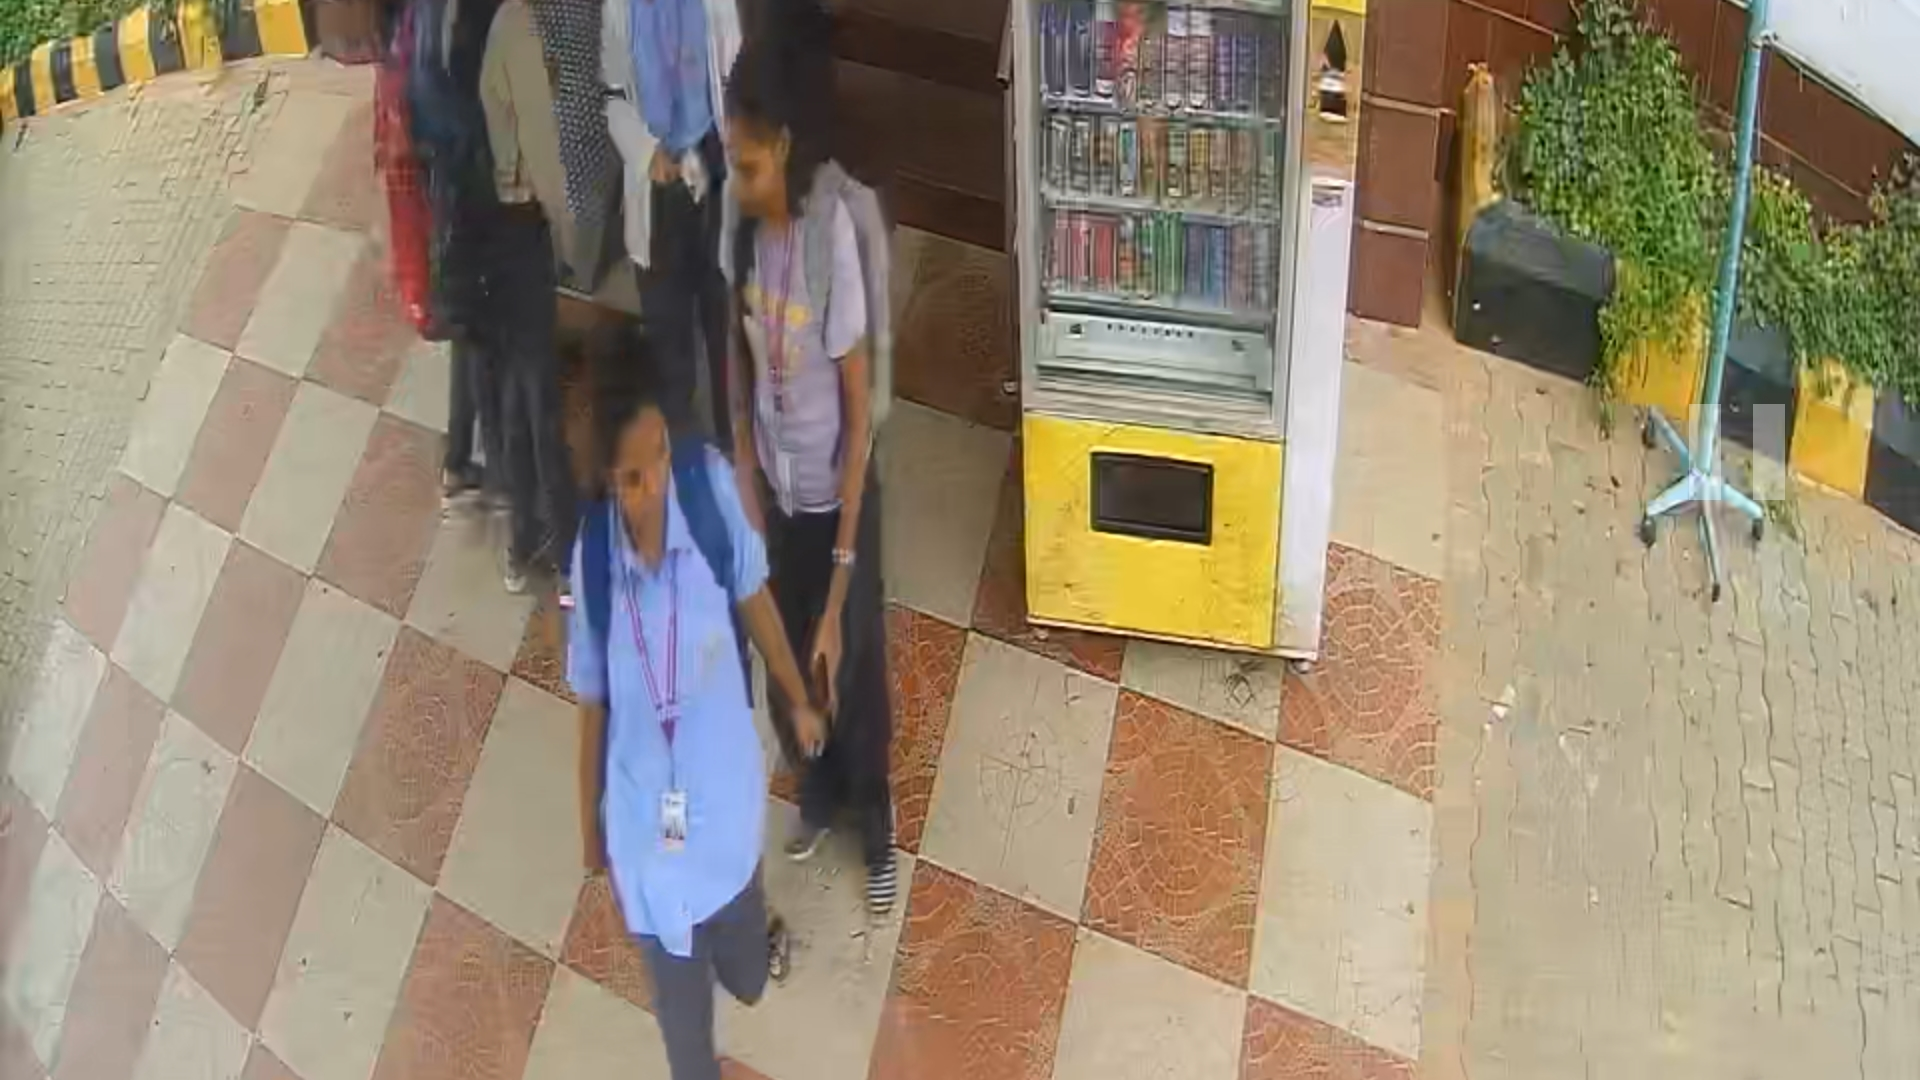not intruder: (721, 55, 960, 927), (564, 369, 781, 1065)
